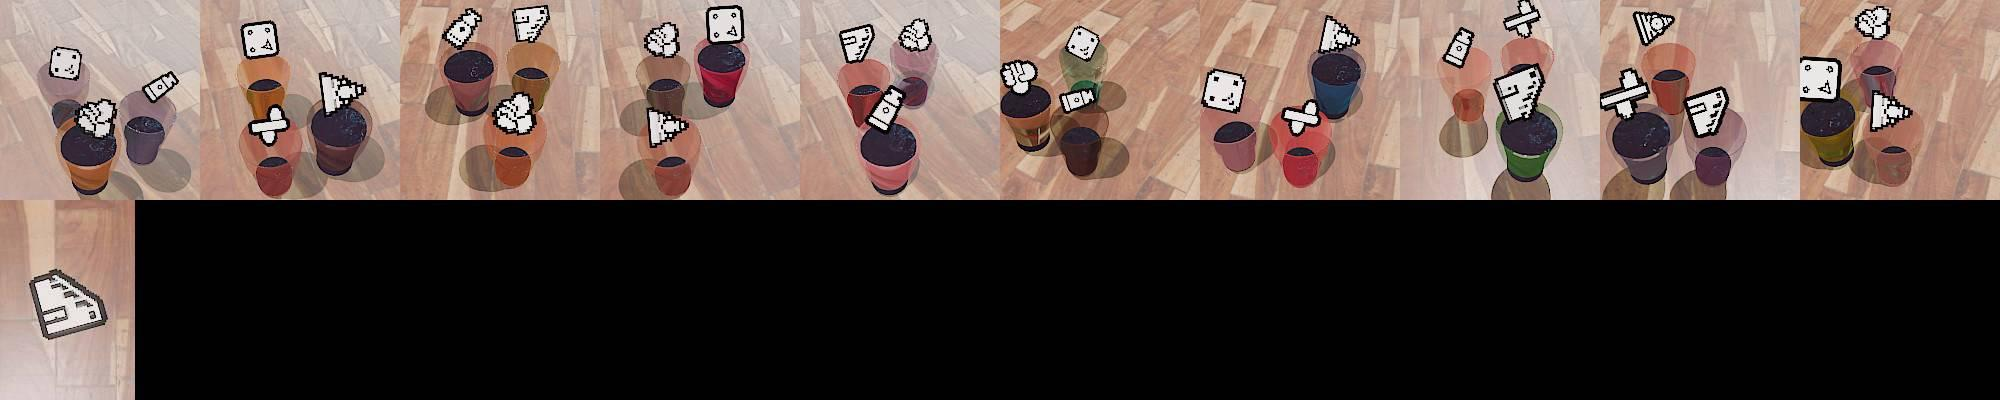icon: (27, 268, 108, 340), (1494, 62, 1546, 124), (1598, 66, 1652, 120), (1684, 84, 1730, 140), (318, 71, 367, 117), (491, 90, 538, 136), (1797, 56, 1842, 102), (1202, 69, 1246, 115), (75, 98, 119, 140), (1870, 88, 1912, 131), (247, 103, 291, 145), (647, 106, 689, 148), (1316, 14, 1360, 55), (443, 8, 482, 52), (240, 20, 279, 61), (1634, 10, 1675, 48), (1503, 1, 1542, 39), (839, 22, 875, 64), (869, 85, 903, 129), (511, 5, 550, 43), (707, 5, 744, 45), (1281, 99, 1321, 135), (1443, 25, 1476, 69), (644, 19, 680, 59), (1853, 5, 1892, 41), (1065, 24, 1101, 61), (1000, 59, 1038, 93), (898, 17, 932, 52), (143, 70, 180, 103), (1057, 84, 1097, 115), (50, 46, 82, 82)
